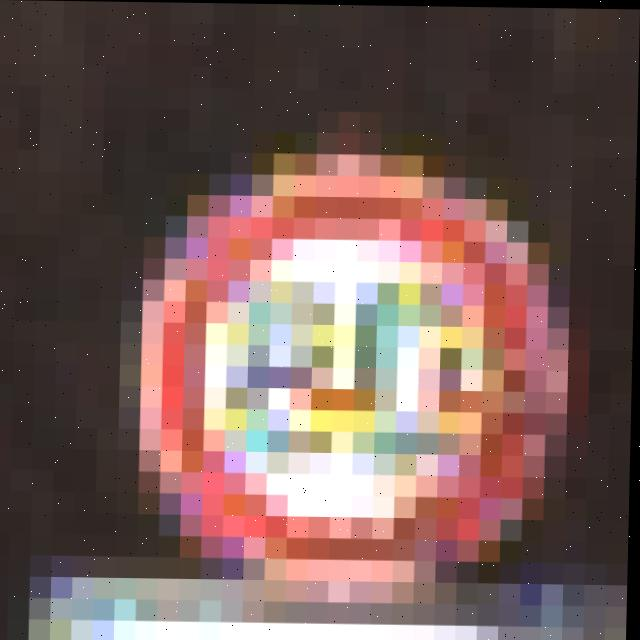speed_limit_80: (140, 144, 560, 616)
